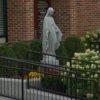Statue: (29, 1, 75, 65)
